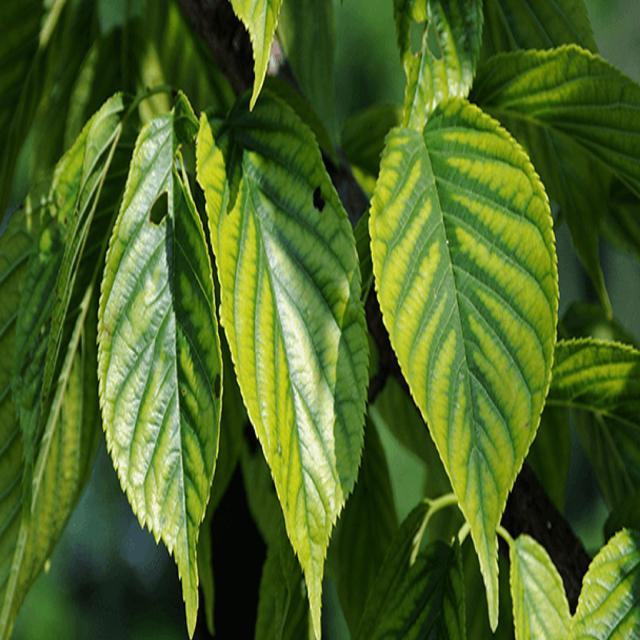Chlorosis: (13, 21, 639, 604)
